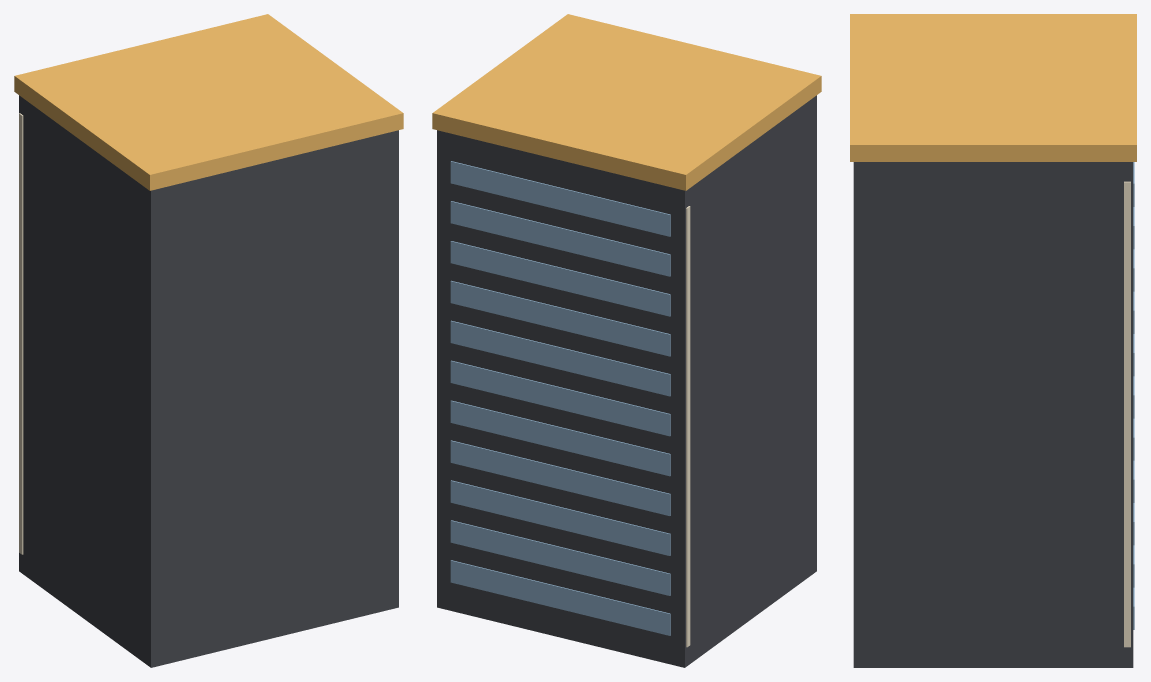
Rendered from B_neontower.fbx.
3 views of the same model, side by side, from view 1: azimuth 30°, elevation 25°; view 2: azimuth 150°, elevation 25°; view 3: azimuth 270°, elevation 25° (orthographic). The views are drawn at different scales.
Visible parts, largest first — view 1: Dark.017, Trim.009, Glow.003; view 2: Dark.017, Glass.011, Trim.009, Glow.003; view 3: Dark.017, Trim.009, Glow.003, Glass.011.
Part boxes in pixels (box(x1,y1,x2,y2)): Dark.017: box(19, 95, 398, 667); Trim.009: box(14, 14, 403, 190); Glow.003: box(19, 113, 23, 554); Dark.017: box(437, 95, 816, 667); Glass.011: box(450, 161, 670, 635); Trim.009: box(432, 14, 821, 190); Glow.003: box(686, 206, 690, 647); Dark.017: box(853, 162, 1133, 667); Trim.009: box(850, 14, 1136, 161); Glow.003: box(1124, 181, 1130, 647); Glass.011: box(1133, 162, 1134, 629).
Size of the model in its own units: 2660 by 4960 by 2460.
